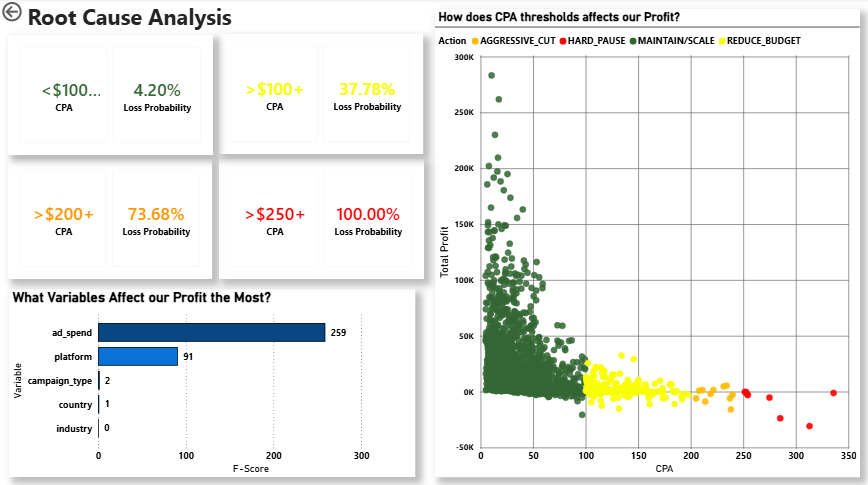

This screenshot's page, from the dashboard's own definition file:
{"tool":"powerbi","page":{"name":"Root Cause Analysis","canvas":[1280,720],"ordinal":1},"visuals":[{"type":"clusteredBarChart","title":"What Variables Affect our Profit the Most?","fields":{"Y":["Sum(anova_results.F-Score)"],"Category":["anova_results.Variable"]},"box":[14.3,427.9,597.2,276.3],"z":0},{"type":"scatterChart","title":"How does CPA thresholds affects our Profit?","fields":{"Category":["vw_performance_metrics.row_id"],"X":["Sum(vw_performance_metrics.cpa)"],"Y":["Sum(vw_performance_metrics.net_profit)"],"Series":["vw_performance_metrics.Action"]},"box":[640.7,16.2,624.5,687.7],"z":1000},{"type":"cardVisual","title":"Campaigns with a CPA between 200$ and 250$","fields":{"Data":["Min(cpa_threshold_sensitivity.CPA_Threshold)","Sum(cpa_threshold_sensitivity.Loss_Probability)"]},"box":[13.2,236.6,299.8,176.3],"z":2000},{"type":"textbox","box":[19.1,0,493.7,52.9],"z":3000},{"type":"cardVisual","title":"Campaigns with a CPA between 200$ and 250$","fields":{"Data":["Min(cpa_threshold_sensitivity.CPA_Threshold)","Sum(cpa_threshold_sensitivity.Loss_Probability)"]},"box":[323.3,236.6,301.2,176.3],"z":4000},{"type":"cardVisual","title":"Campaigns with a CPA between 200$ and 250$","fields":{"Data":["Min(cpa_threshold_sensitivity.CPA_Threshold)","Sum(cpa_threshold_sensitivity.Loss_Probability)"]},"box":[323.3,52.9,299.8,176.3],"z":5000},{"type":"cardVisual","title":"Campaigns with a CPA between 200$ and 250$","fields":{"Data":["Min(cpa_threshold_sensitivity.CPA_Threshold)","Sum(cpa_threshold_sensitivity.Loss_Probability)"]},"box":[13.4,53.8,300.7,176.4],"z":6000},{"type":"actionButton","box":[0,0,38.2,39.7],"z":7000}]}

Visuals, with their boxes in screenshot pixels (x1, y1, x2, y2), scaled from the page's 1280x720 canvas onto the 868x485 screenshot:
"What Variables Affect our Profit the Most?" clusteredBarChart: x1=10 y1=288 x2=415 y2=474
"How does CPA thresholds affects our Profit?" scatterChart: x1=434 y1=11 x2=858 y2=474
"Campaigns with a CPA between 200$ and 250$" cardVisual: x1=9 y1=159 x2=212 y2=278
textbox: x1=13 y1=0 x2=348 y2=36
"Campaigns with a CPA between 200$ and 250$" cardVisual: x1=219 y1=159 x2=423 y2=278
"Campaigns with a CPA between 200$ and 250$" cardVisual: x1=219 y1=36 x2=423 y2=154
"Campaigns with a CPA between 200$ and 250$" cardVisual: x1=9 y1=36 x2=213 y2=155
actionButton: x1=0 y1=0 x2=26 y2=27
